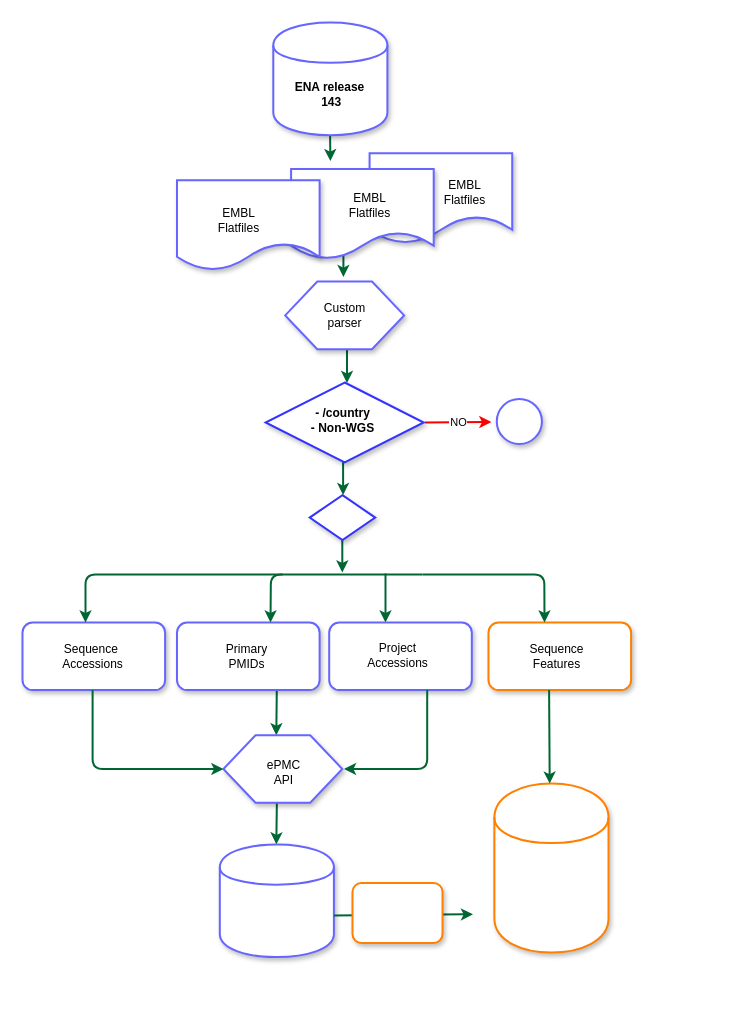
This 755x1019 diagram has some shape labels left out. The shapes that lost their labels are listed below. From the top down, each one's centre as x and y in pixels, then its label:
point (519, 422): STOP
point (343, 519): Yes
point (552, 869): Sequence Literature PostgreSQL DB
point (277, 902): ePMC DB
point (398, 914): Literature Features
